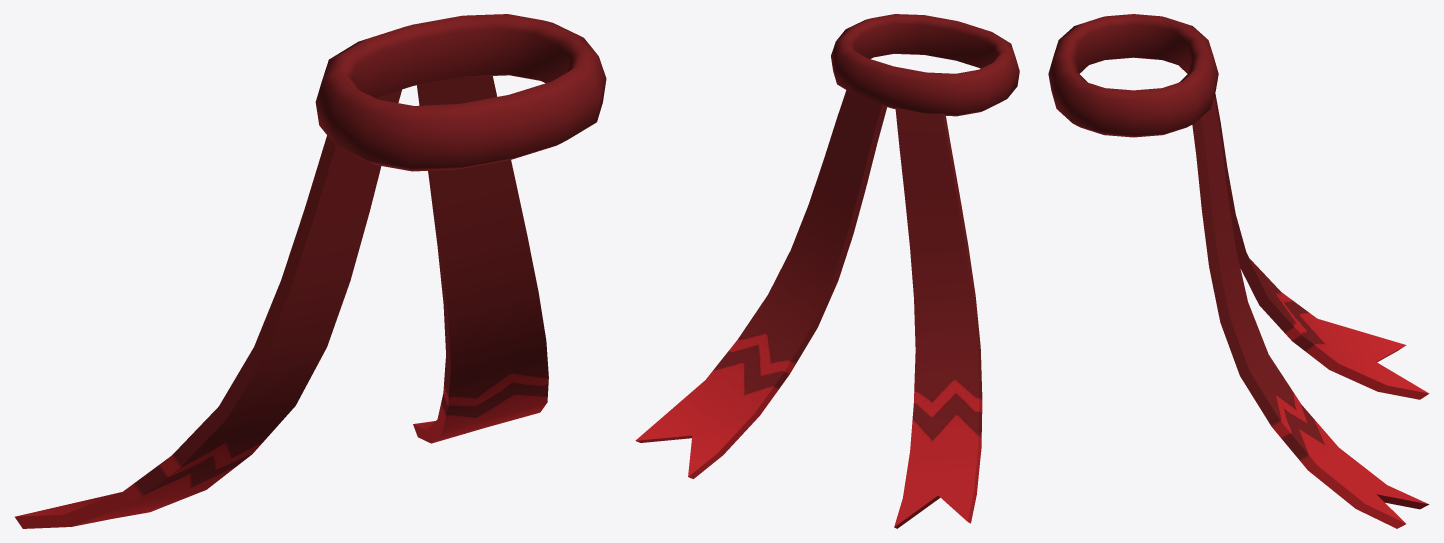
Rendered from dandys_world_showtime_scarf.glb.
3 renders of one model, left to right at view 1: azimuth 30°, elevation 25°; view 2: azimuth 150°, elevation 25°; view 3: azimuth 270°, elevation 25°, orthographic. The views are drawn at different scales.
Visible parts, largest first — view 1: Object_3; view 2: Object_3; view 3: Object_3.
Part boxes in pixels (x1,y1,x2,y2): Object_3: (15,14,606,528); Object_3: (635,14,1019,528); Object_3: (1048,14,1429,528).
Bounding box in the file's own units: 2.28 × 2.39 × 2.05.
1 material, 1 textured.
